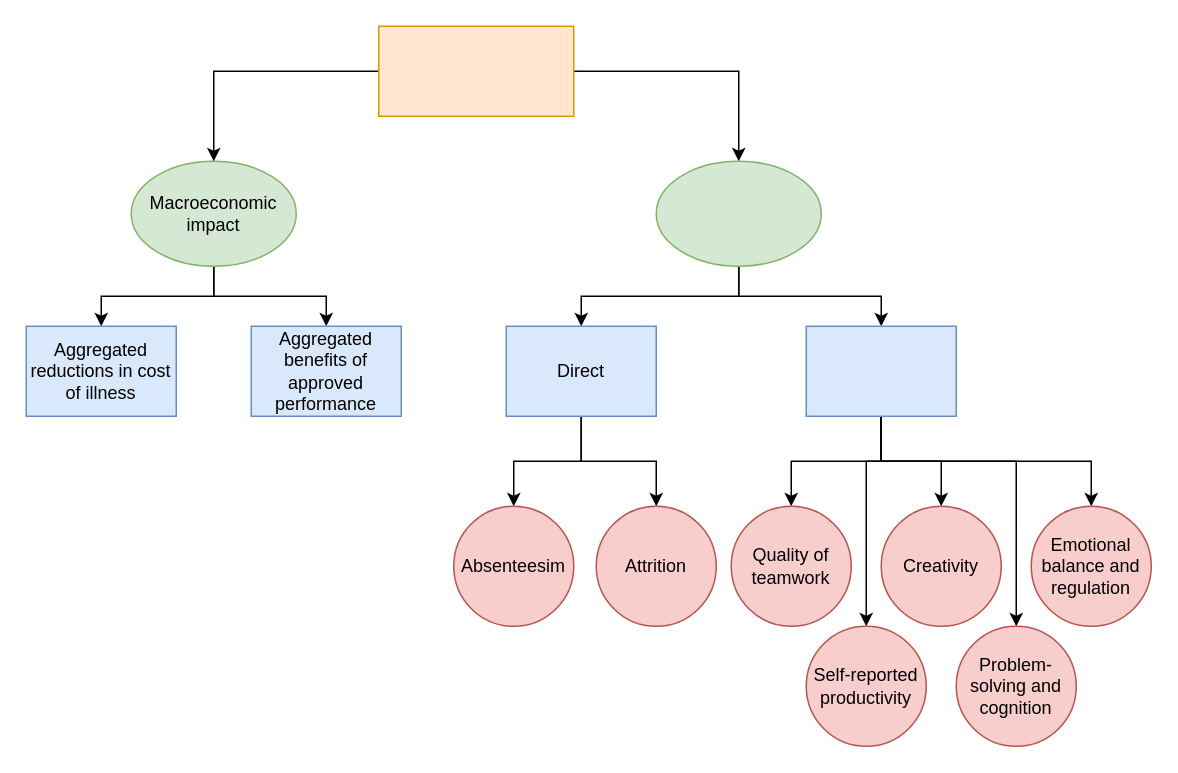
This 1178x773 diagram has some shape labels left out. The shapes that lost their labels are listed below. From the top down, each one's centre as x and y in pixels, then its label:
At pixel 475 70: "Brain health and performance".
At pixel 738 213: "Microeconomic impact".
At pixel 880 370: "Indirect".
